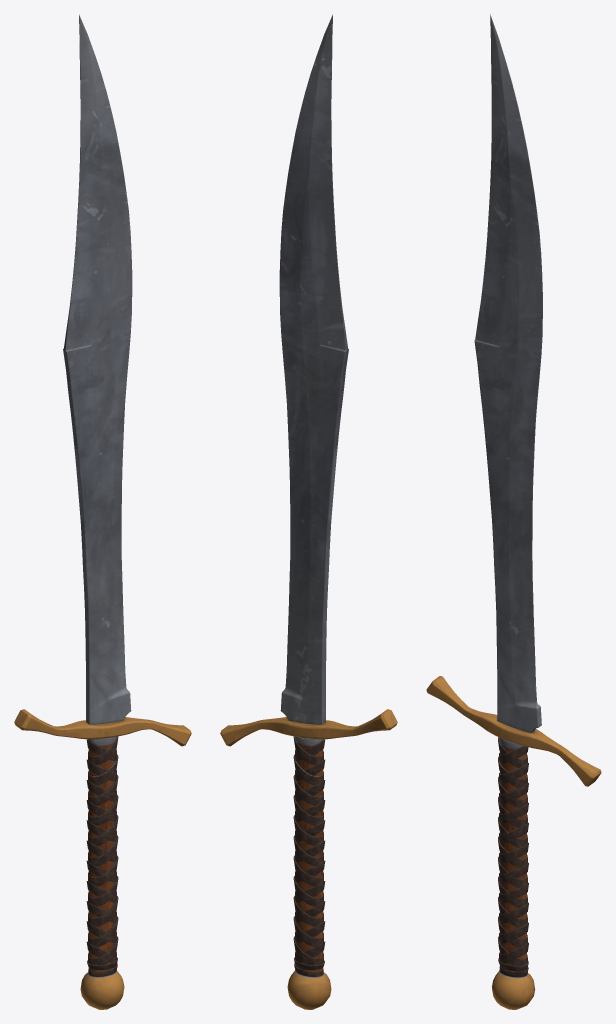
The model's file is Sword.glb.
3 renders of one model, left to right at view 1: azimuth 30°, elevation 25°; view 2: azimuth 150°, elevation 25°; view 3: azimuth 330°, elevation 25°, orthographic.
Parts seen in each view (by area): view 1: blade_mesh; view 2: blade_mesh; view 3: blade_mesh.
Boxes of the visible parts, x1,y1,x2,y2 form: blade_mesh: [14, 14, 191, 1009]; blade_mesh: [220, 14, 397, 1009]; blade_mesh: [426, 14, 601, 1009].
Bounding box in the file's own units: 0.1679 × 0.9408 × 0.0378.
1 material, 1 textured.
